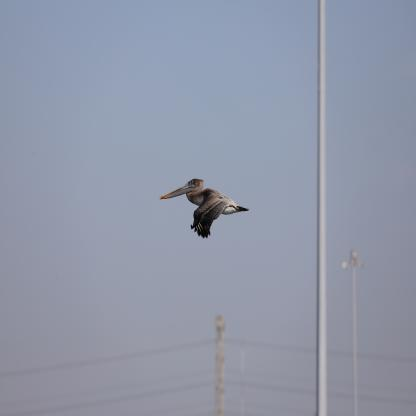bird: (161, 178, 249, 239)
